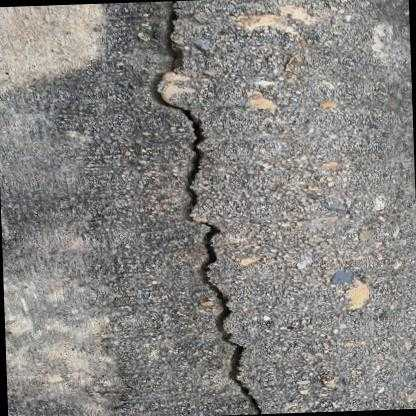crack: (150, 1, 262, 414)
